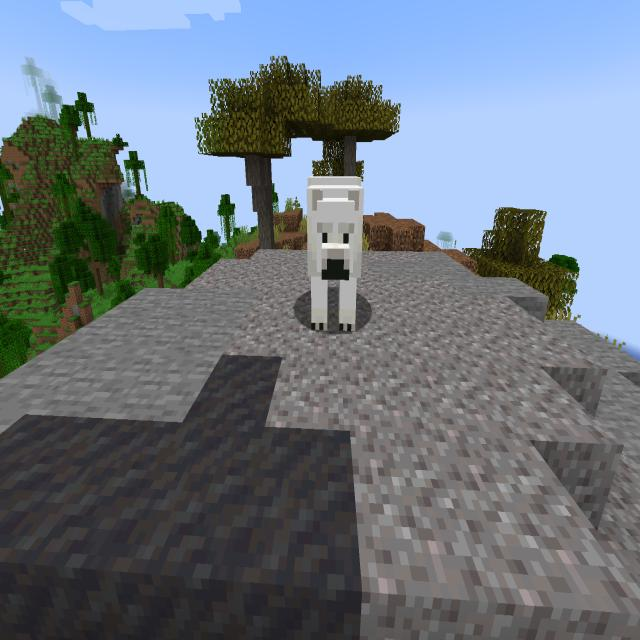Polar Bear: (299, 154, 371, 346)
